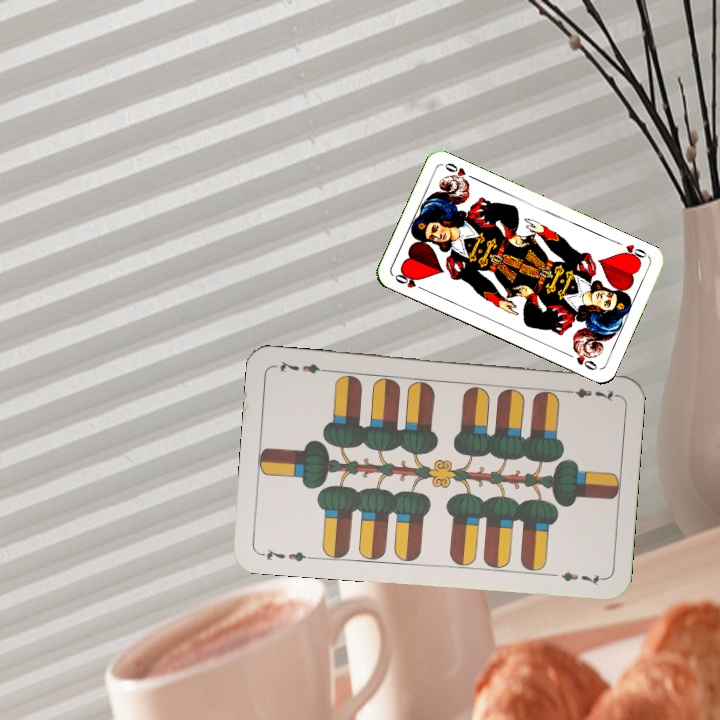E7: (560, 384, 619, 404), (257, 545, 316, 564)
HO: (390, 268, 428, 294), (617, 240, 651, 264)
